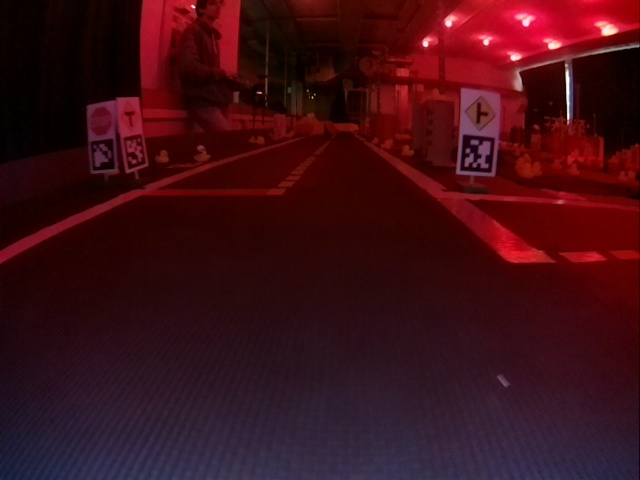Duckie: (194, 146, 210, 161), (155, 150, 169, 163), (401, 145, 413, 156)
Intersection sign: (464, 95, 497, 131), (120, 99, 143, 131)
QR code: (463, 135, 492, 174), (90, 141, 115, 172), (123, 138, 147, 169)
Stop sign: (89, 104, 114, 136)
